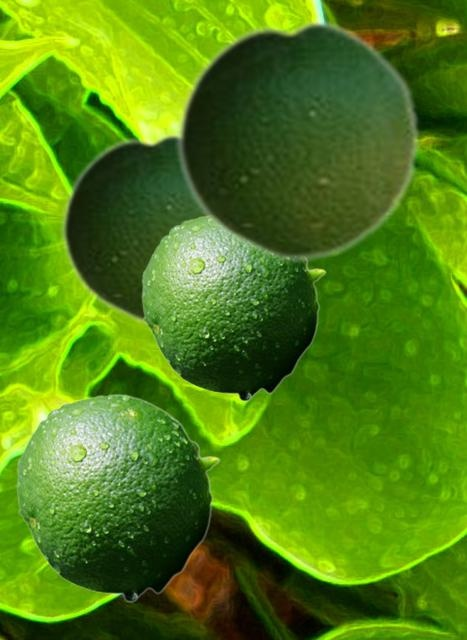dalandan: (175, 16, 420, 264), (16, 393, 219, 602), (141, 214, 325, 401), (60, 130, 201, 325)
